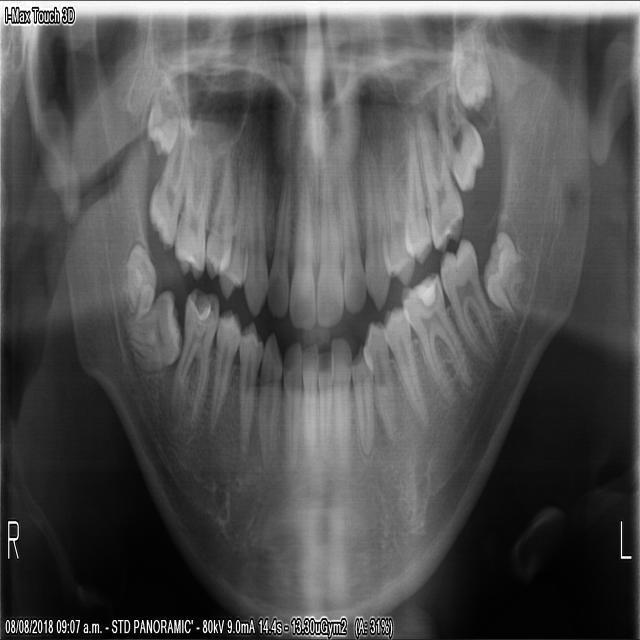LCD: (256, 328, 281, 473)
LCU: (358, 134, 391, 311)
LID: (327, 334, 352, 471), (317, 345, 331, 457)
LIU: (332, 118, 367, 318), (316, 126, 343, 334)
LMD: (397, 256, 478, 411), (435, 232, 506, 375), (477, 218, 528, 323)
LMU: (413, 101, 466, 257), (434, 71, 486, 209), (448, 25, 496, 117)
LPMD: (378, 303, 431, 434), (362, 309, 398, 446)
LPMU: (377, 104, 417, 292), (400, 95, 433, 270)
RCD: (348, 348, 377, 462)
RCU: (243, 128, 268, 323)
RID: (281, 340, 301, 464), (301, 343, 318, 457)
RIU: (286, 117, 319, 328), (261, 139, 293, 326)
RMD: (164, 284, 219, 434), (121, 282, 181, 375), (120, 239, 159, 317)
RMU: (171, 111, 214, 284), (144, 95, 190, 256), (141, 59, 184, 164)
RPMD: (207, 300, 240, 439), (235, 317, 263, 467)
RPMU: (212, 131, 248, 307), (205, 140, 237, 287)
